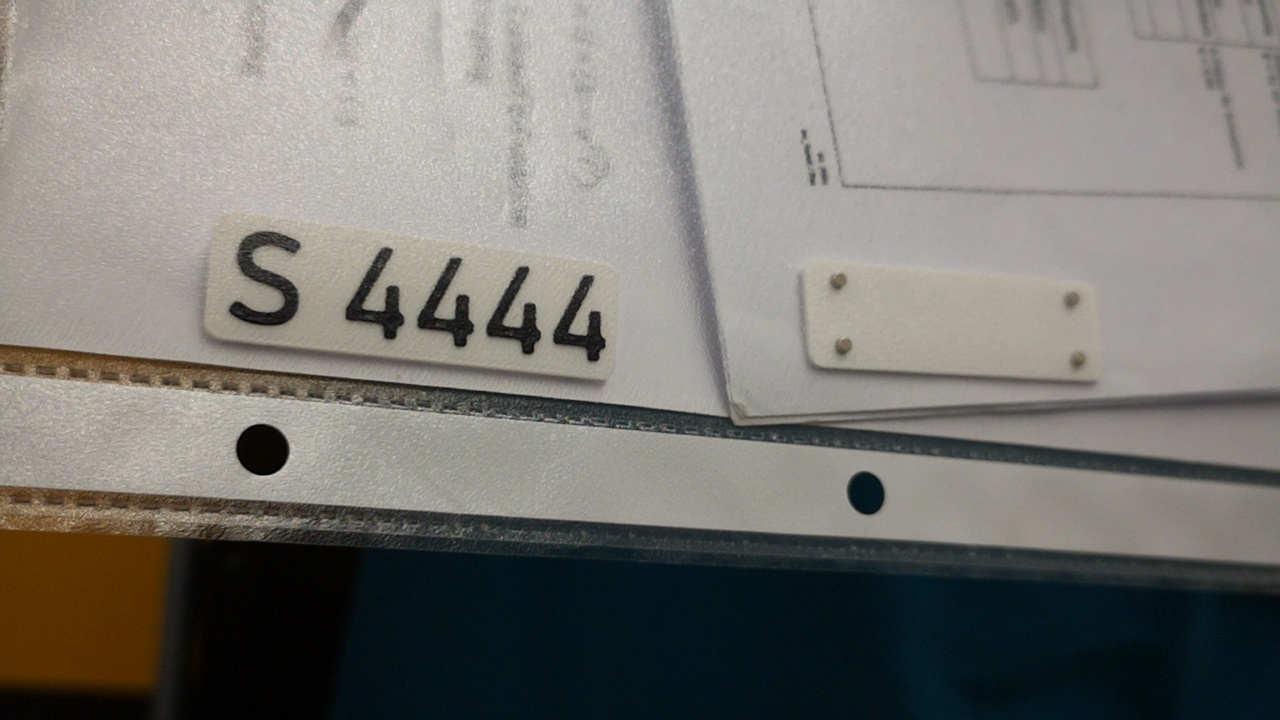license_plate: (201, 208, 617, 383), (801, 249, 1111, 386)
